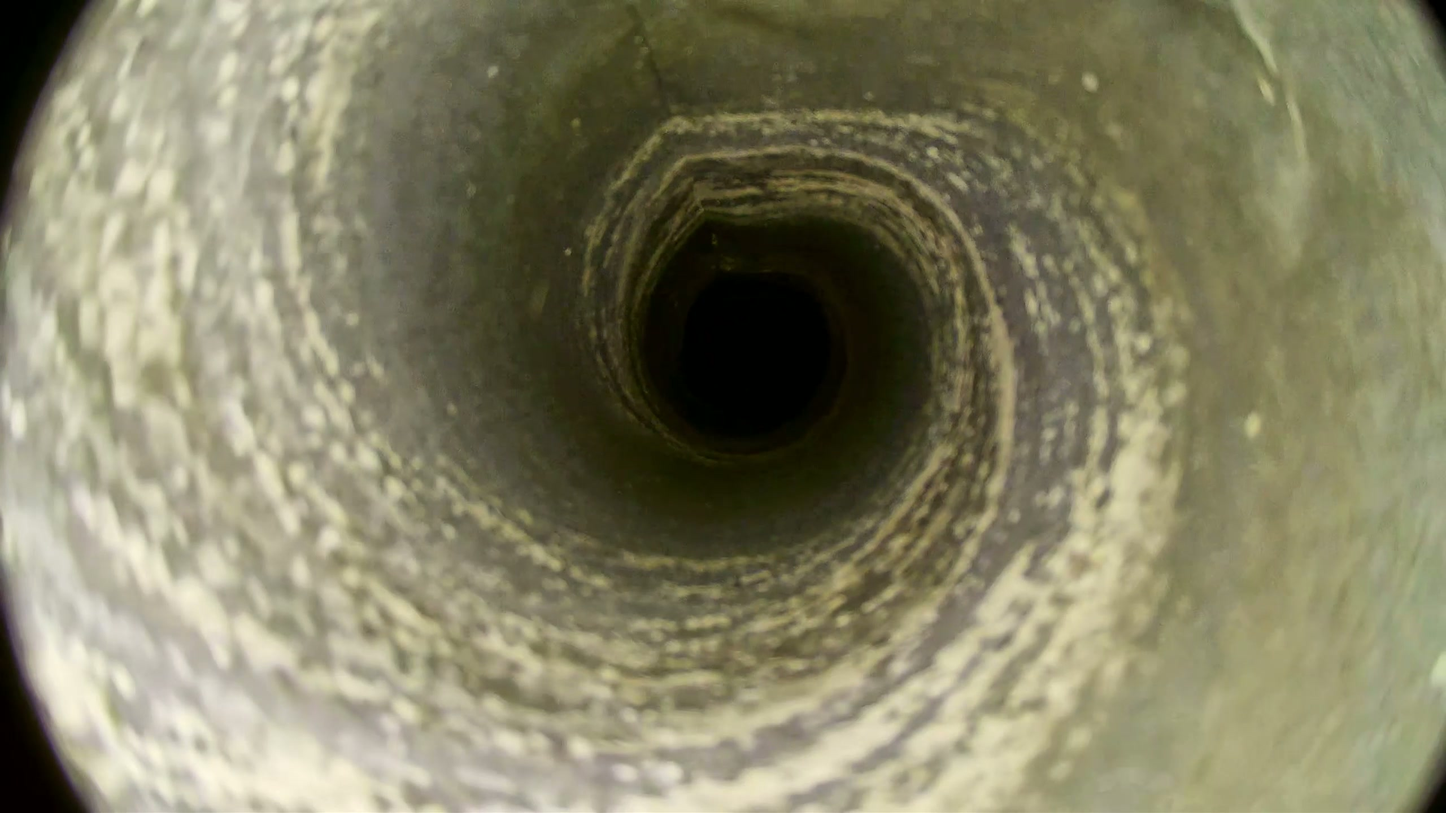hole: (683, 279, 830, 425)
